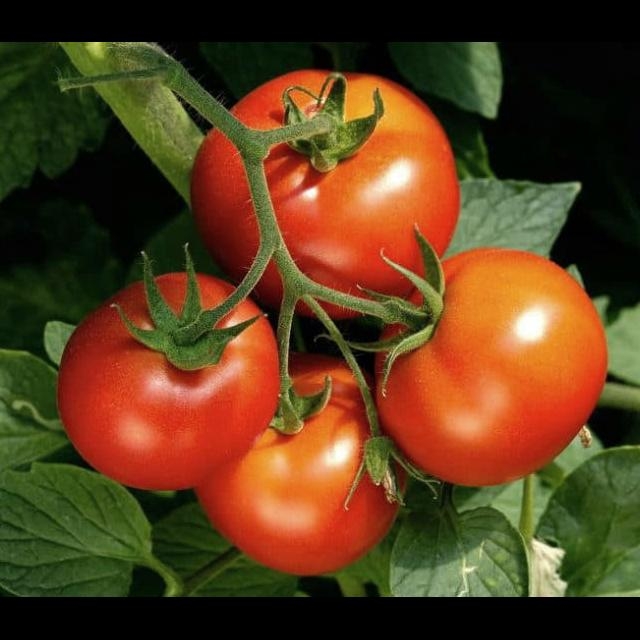tomato: (375, 248, 607, 486), (58, 282, 278, 490), (264, 74, 459, 304), (196, 356, 397, 574), (190, 128, 258, 282), (231, 70, 335, 128), (254, 260, 282, 310), (196, 274, 234, 310), (155, 272, 187, 314), (380, 324, 410, 342), (318, 300, 341, 318), (408, 288, 423, 304), (296, 302, 313, 316), (340, 308, 360, 318)
